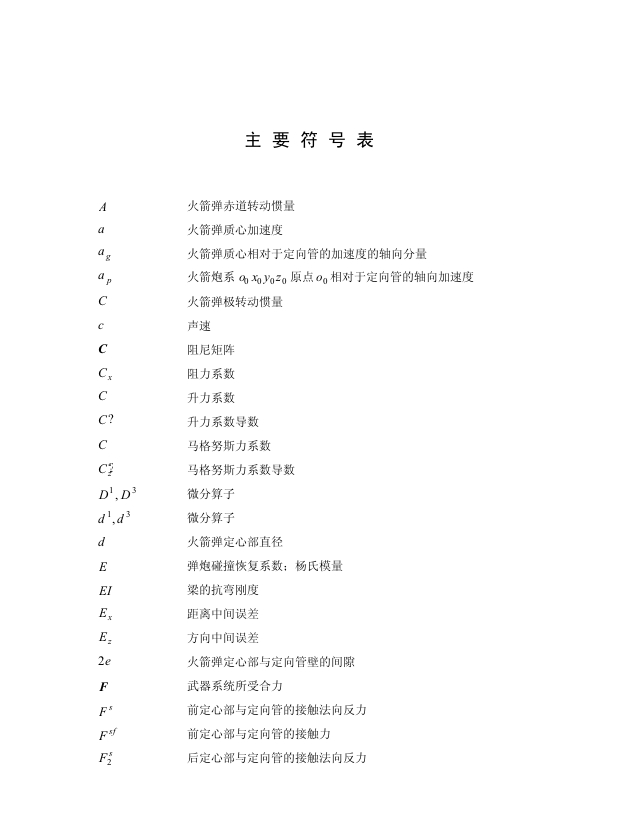table: (98, 199, 473, 764)
